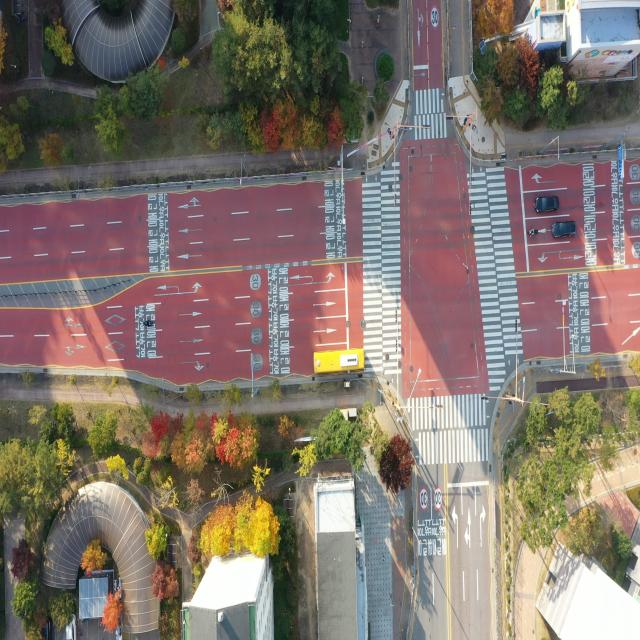car: (554, 221, 576, 239), (534, 197, 558, 213), (66, 613, 78, 640)
large_bus: (314, 350, 366, 374)
